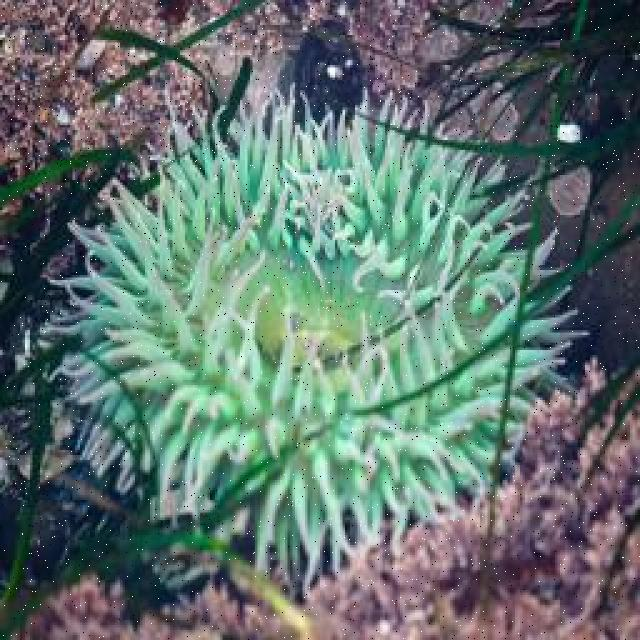aquatic plants: (422, 0, 635, 269), (0, 340, 180, 638), (0, 118, 143, 360)
reefs: (29, 78, 601, 601)
